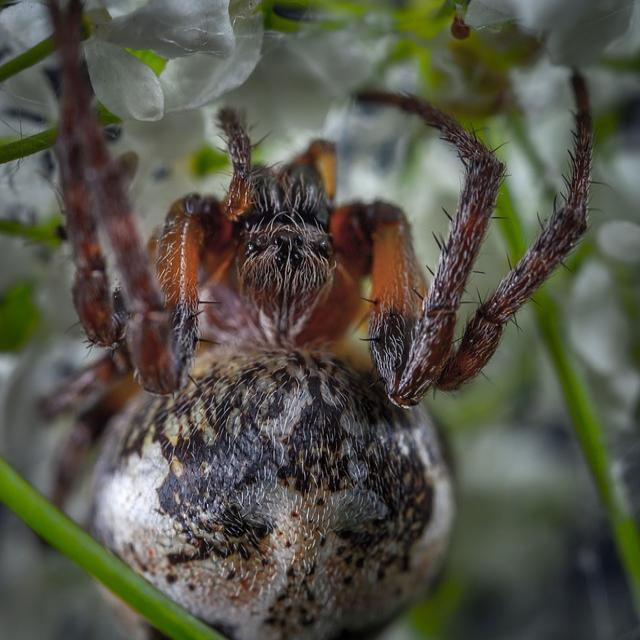spyder: (48, 0, 592, 636)
